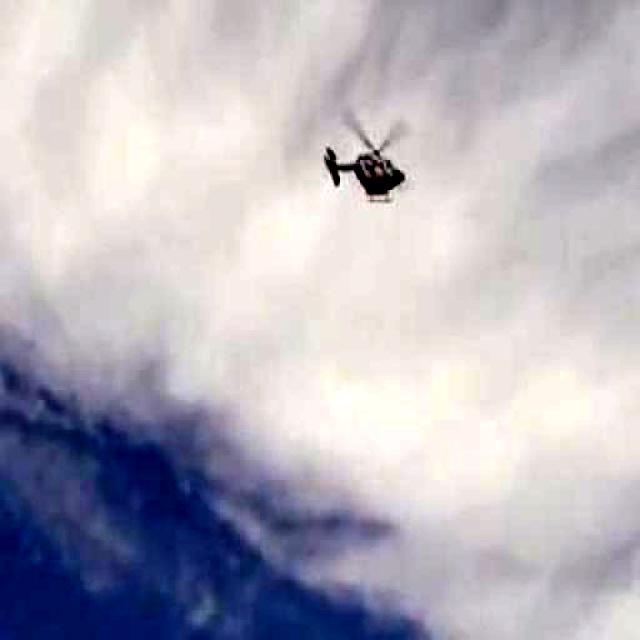drone: (304, 90, 422, 234)
